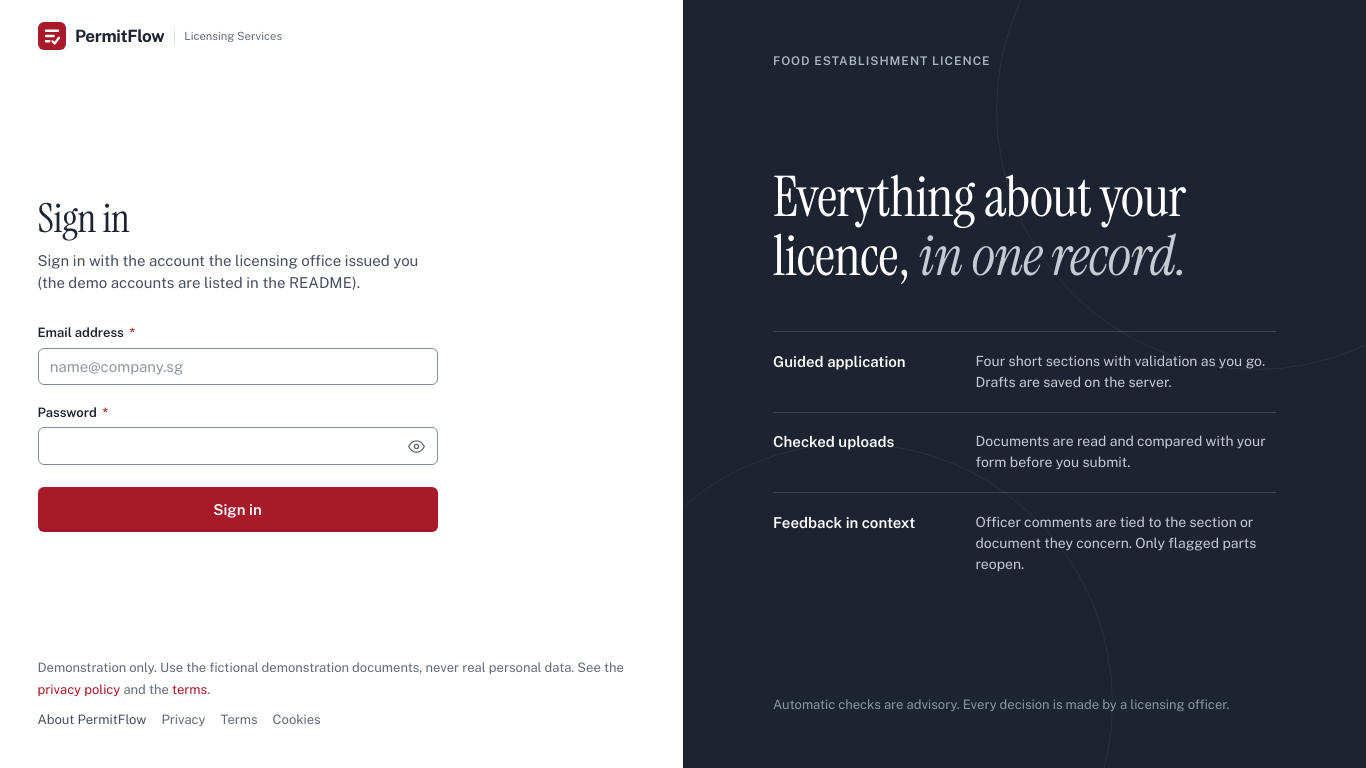
Test: LoginPage › shows the generic message on 401
In the field labelled "Email address *": (238, 366) [38,348,438,385], type "o@x.sg"
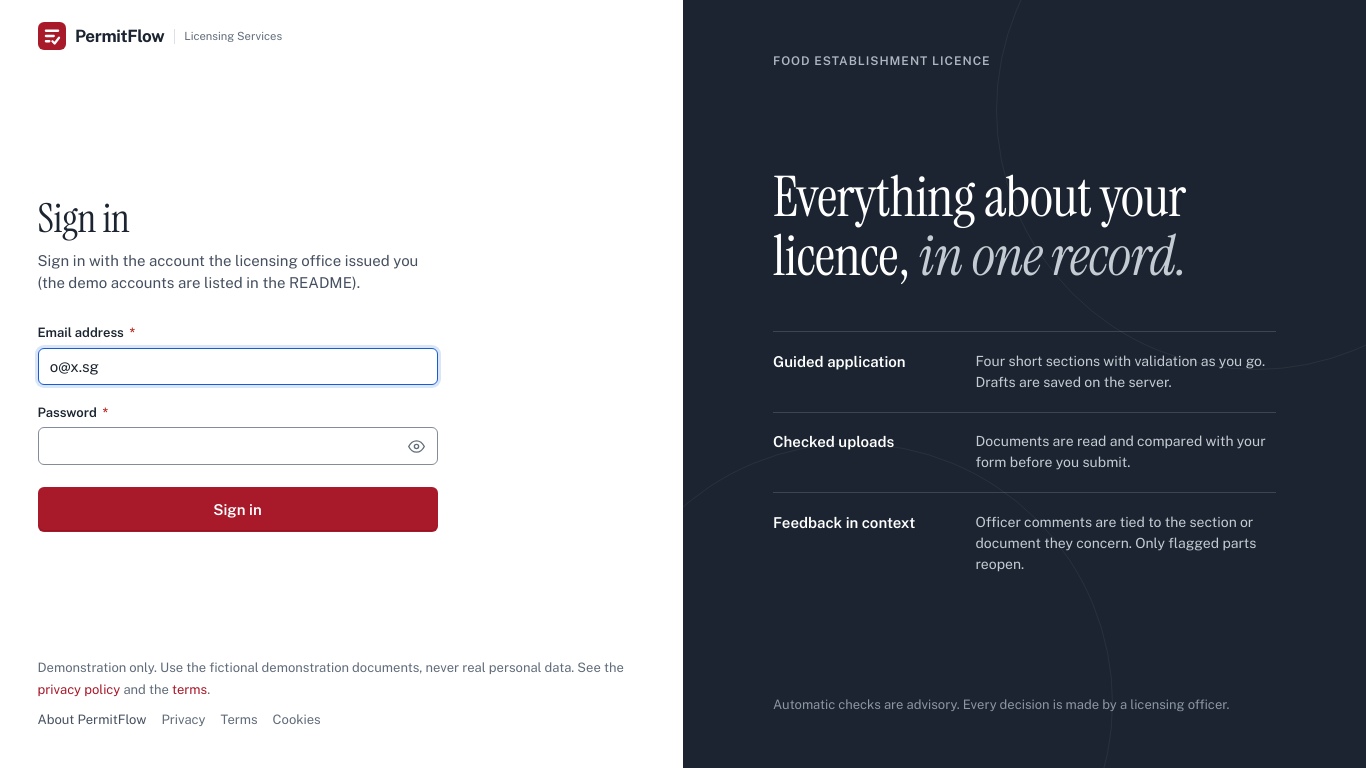
In the password field labelled "Password *": (238, 446) [38,427,438,465], type "pw"
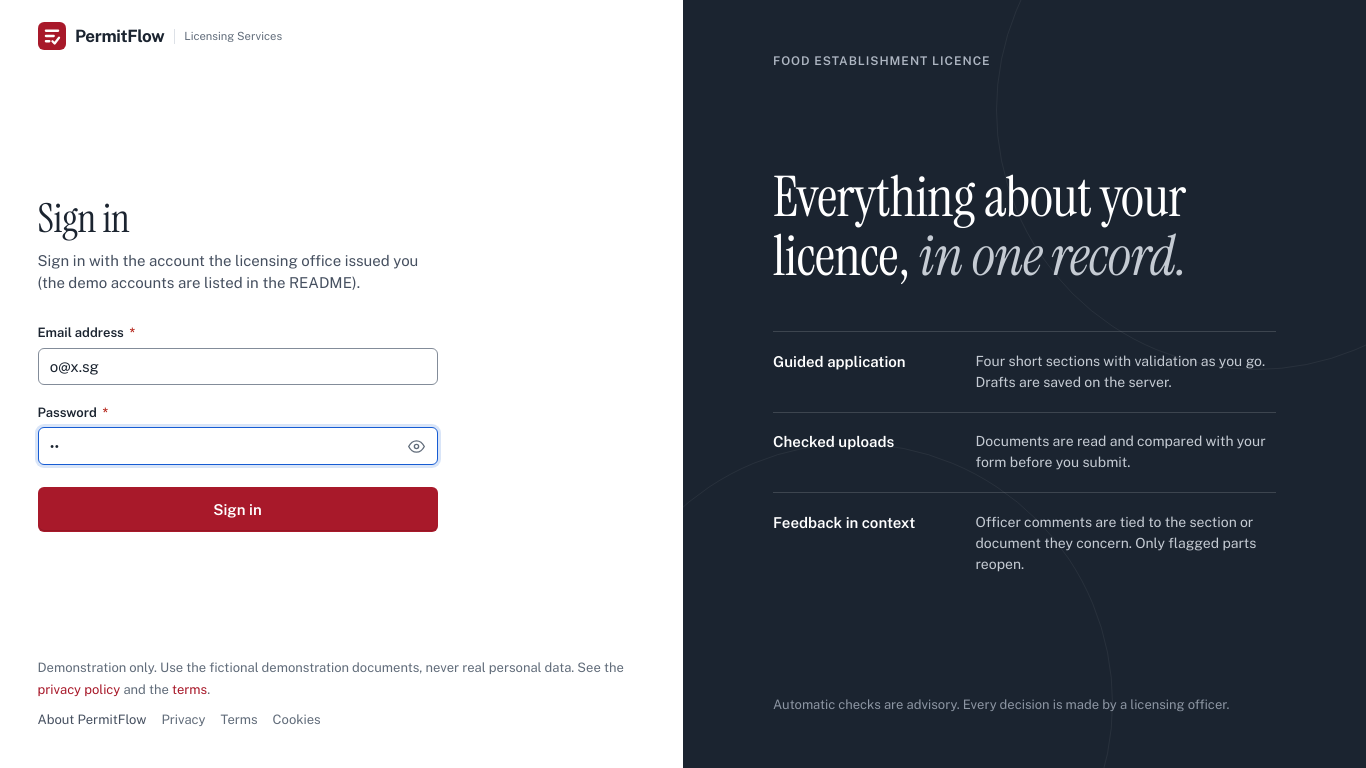
Click the button "Sign in": (238, 510) [38,487,438,532]
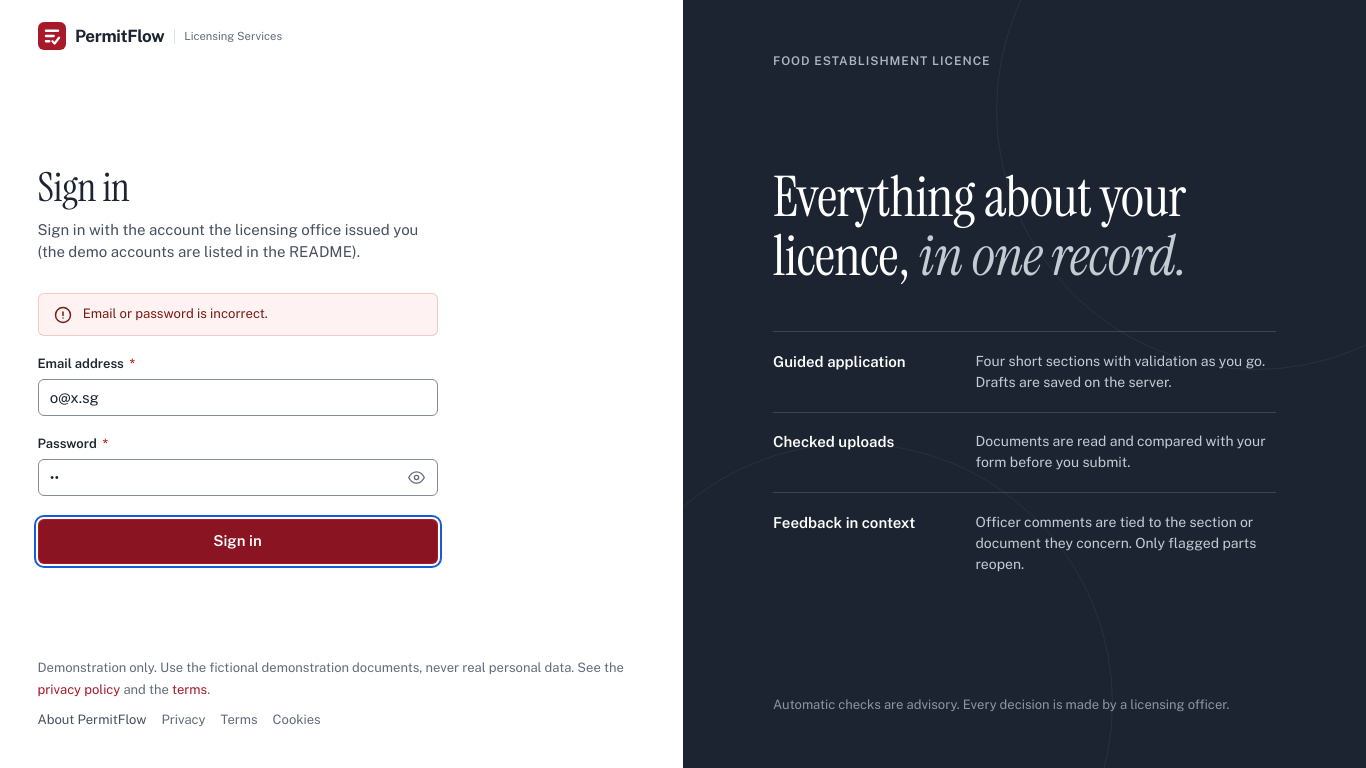
Now the text "Email or password is incorrect." is shown, box [83,306,268,321]
